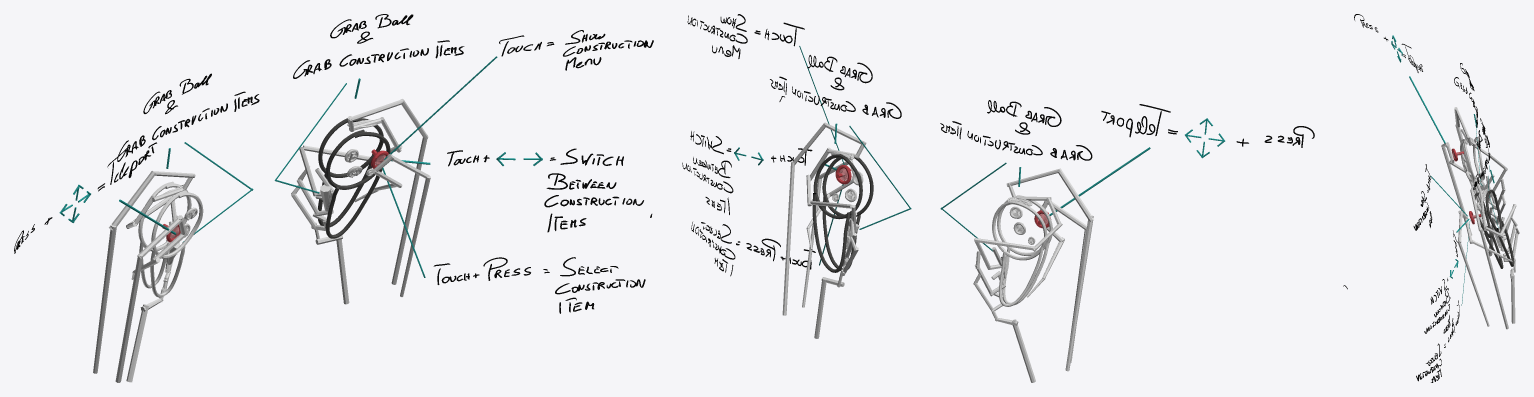
Rendered from ControllerInfo 1.fbx.
The picture shows the model from 3 angles, left to right: view 1: azimuth 30°, elevation 25°; view 2: azimuth 150°, elevation 25°; view 3: azimuth 270°, elevation 25°; orthographic projection. The views are drawn at different scales.
Parts seen in each view (by area): view 1: draw-label, hand, Hand, roundhardware (×2), handle1 (×2), NewLayer0; view 2: draw-label, Hand, hand, roundhardware (×2), handle1 (×2), NewLayer0; view 3: hand, draw-label, Hand, roundhardware (×2), handle1, NewLayer0.
Boxes of the visible parts, x1,y1,x2,y2 form: draw-label: (14,14,653,313); hand: (291,99,430,304); Hand: (93,171,195,382); roundhardware (×2): (138,118,390,258); handle1 (×2): (139,154,382,297); NewLayer0: (117,73,259,168); draw-label: (682,14,1314,276); Hand: (973,168,1093,382); hand: (782,122,866,338); roundhardware (×2): (813,154,1052,260); handle1 (×2): (812,193,1049,306); NewLayer0: (940,100,1092,186); hand: (1457,179,1519,329); draw-label: (1343,14,1498,382); Hand: (1441,107,1507,256); roundhardware (×2): (1460,137,1502,237); handle1: (1484,221,1514,268); NewLayer0: (1454,63,1477,127).
Bounding box in the file's own units: 0.6612 × 0.2919 × 0.2319.
